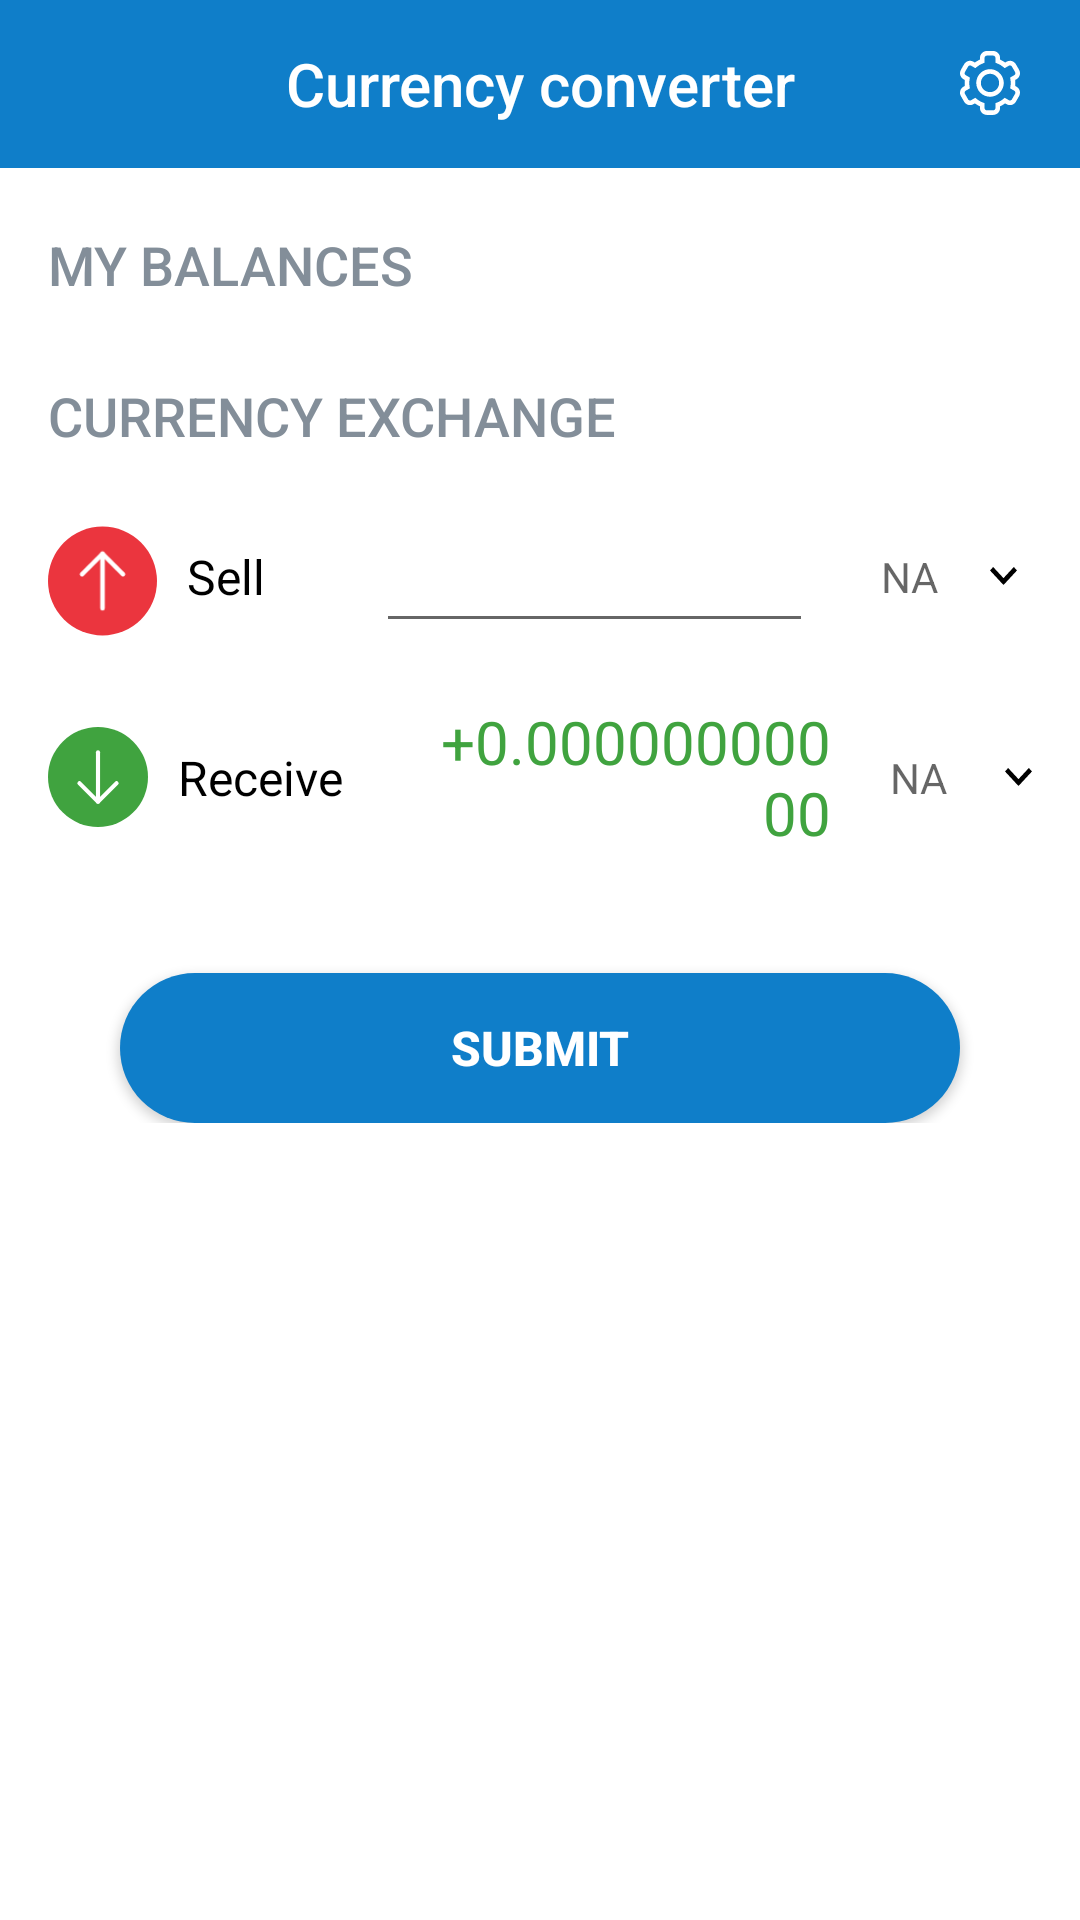

Screen size 1080*1920. Icon name, then its center in pixels as (x,y):
setting: (990,83)
